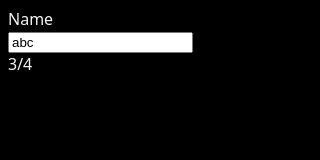
TextField › soft counter turns the field invalid past maxCount
The image size is (320, 160).
Check: the text "3/4" is shown, box [8, 53, 32, 75]
Type "de" into the field labelled "Name".
click(100, 42); type("de")  # box [8, 32, 193, 53]
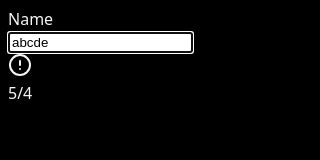
Check: the text "5/4" has attribute data-over, box [8, 82, 32, 104]
Check: the field labelled "Name" is marked as invalid, box [8, 32, 193, 53]
